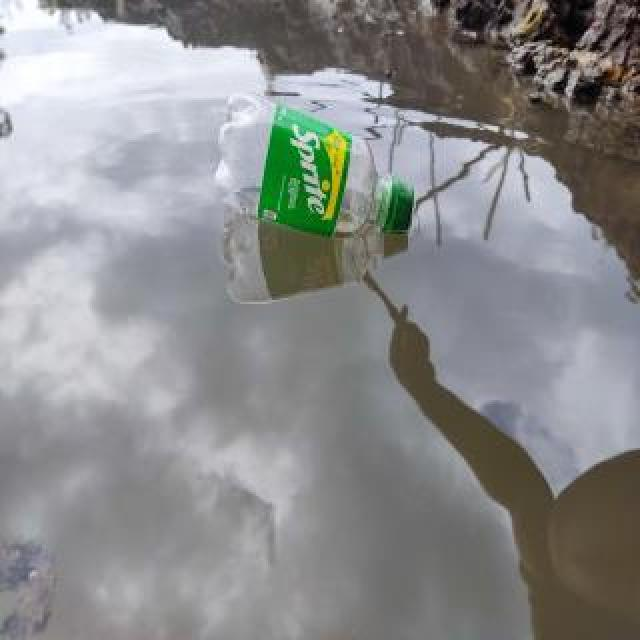bottle: (209, 82, 419, 248)
